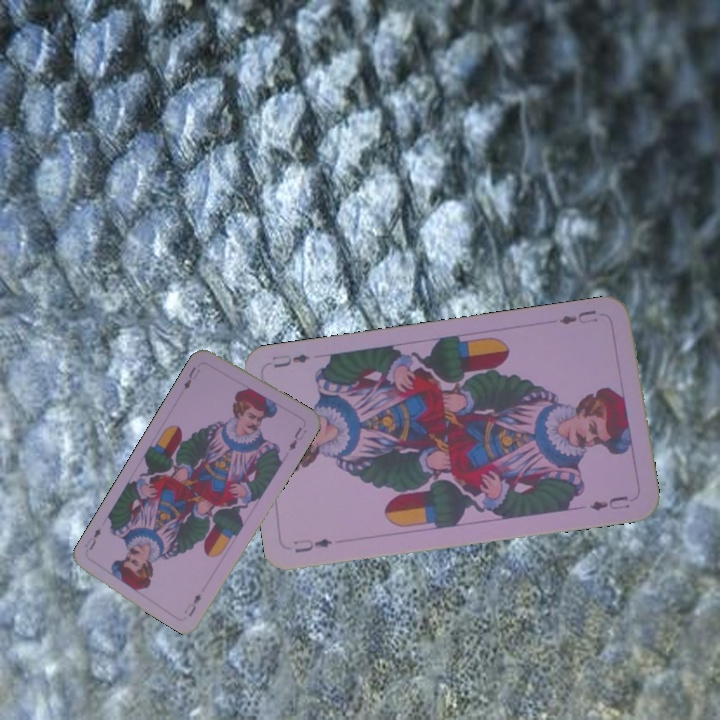EU: (289, 534, 335, 555), (555, 306, 600, 327), (179, 362, 203, 392), (183, 589, 204, 619)
